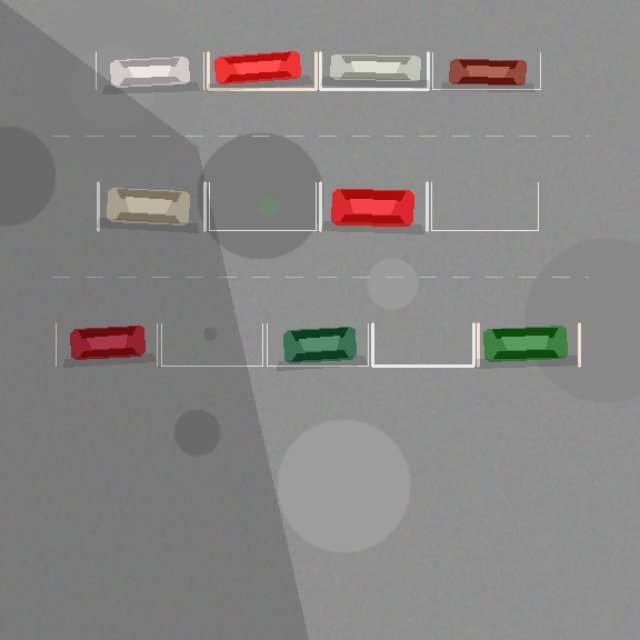space-empty: (209, 182, 316, 230), (431, 182, 538, 230), (161, 323, 262, 366), (372, 323, 473, 366)
space-occupied: (320, 182, 427, 230), (98, 182, 204, 230), (56, 323, 157, 366), (267, 323, 368, 366), (478, 323, 579, 366), (208, 52, 316, 89), (320, 52, 428, 89), (432, 52, 540, 89), (96, 52, 203, 89)
